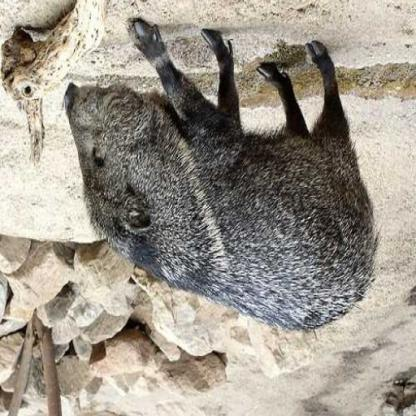boar: (24, 53, 415, 338)
